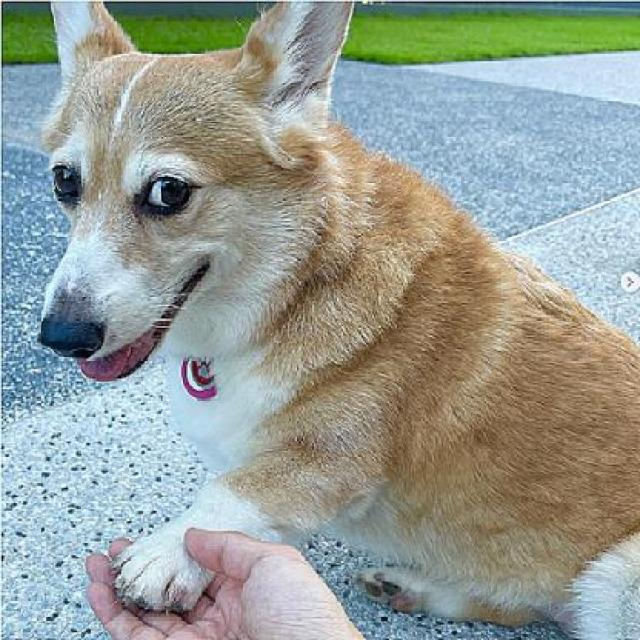Dog: (36, 4, 638, 638)
